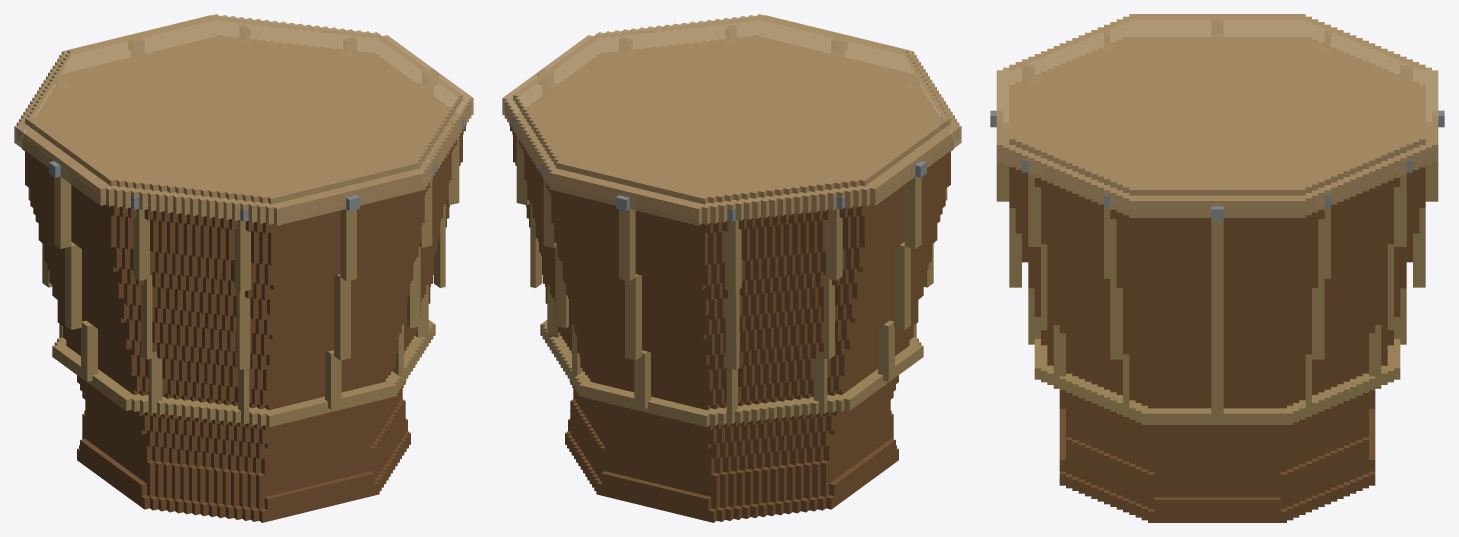
Rendered from drum_percussion_primitive.glb.
3 views of the same model, side by side, from view 1: azimuth 30°, elevation 25°; view 2: azimuth 150°, elevation 25°; view 3: azimuth 270°, elevation 25° (orthographic). The views are drawn at different scales.
Visible parts, largest first — view 1: drum_percussion_primitive:compound; view 2: drum_percussion_primitive:compound; view 3: drum_percussion_primitive:compound.
Boxes of the visible parts, <box> form: drum_percussion_primitive:compound: <box>14,14,473,522</box>; drum_percussion_primitive:compound: <box>502,14,961,522</box>; drum_percussion_primitive:compound: <box>990,14,1444,522</box>.
Size of the model in its own units: 0.288 by 0.248 by 0.288.
